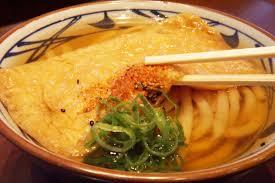kitune: (1, 3, 270, 181)
